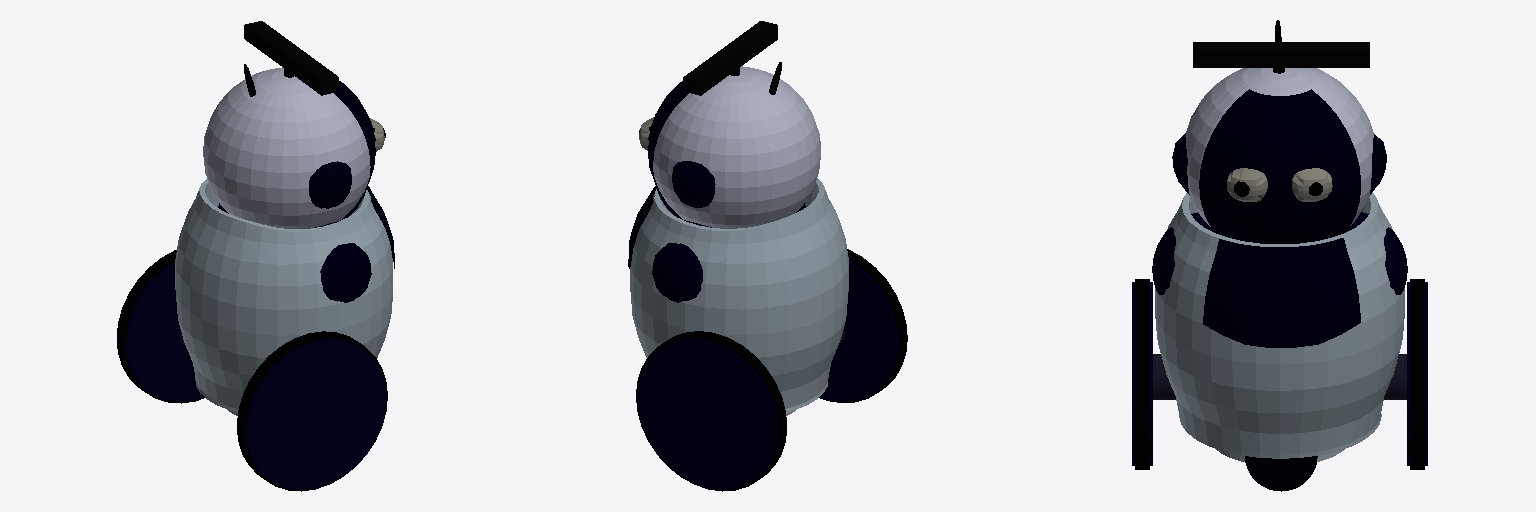
The robot description file, URDF, robot "qbo":
<?xml version="1.0"?>
<robot name="qbo">
     
  <link name="base_link">
    <visual>
      <geometry>
        <mesh filename="package://qbo_laser_slam/urdf/qbo_both.dae"/>
      </geometry>
    </visual>
  </link>

</robot>

--- Render facts (derived) ---
The picture shows the robot from 3 angles, left to right: view 1: azimuth 30°, elevation 25°; view 2: azimuth 150°, elevation 25°; view 3: azimuth 270°, elevation 25°; orthographic projection.
Robot: qbo — 1 links, 0 joints (none); root link base_link; default pose: all joints at 0.
Links seen in each view (by area): view 1: base_link; view 2: base_link; view 3: base_link.
Link boxes in pixels (left/top/right/bottom): base_link: left=117, top=21, right=394, bottom=491; base_link: left=628, top=21, right=907, bottom=491; base_link: left=1132, top=20, right=1427, bottom=491.
Size in the robot's own frame: 0.4176 by 0.4651 by 0.7575 metres.
Meshes: 1 distinct files referenced, 1 mesh visuals loaded (1 Collada DAE).